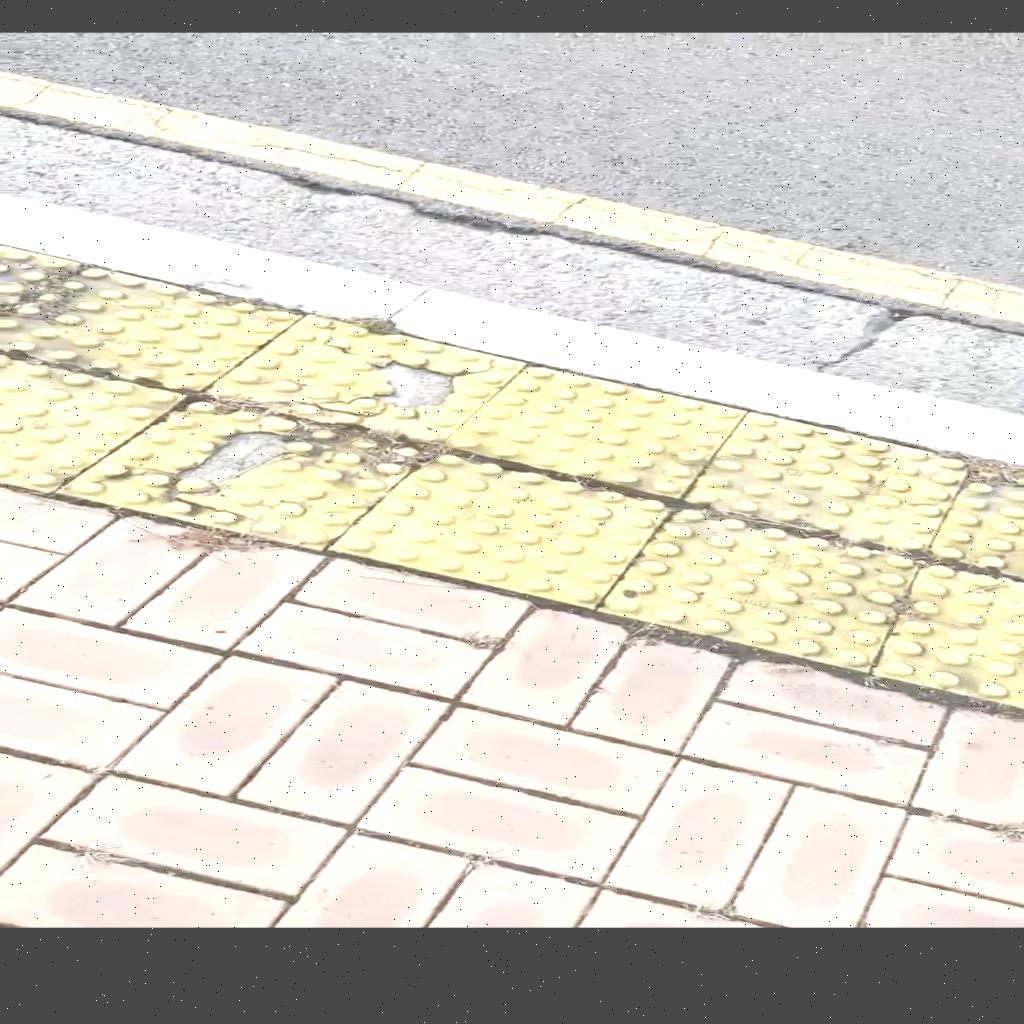Stop block broken: (60, 374, 431, 568), (196, 295, 533, 458)
Stop block normal: (332, 431, 675, 623), (440, 351, 745, 508)
